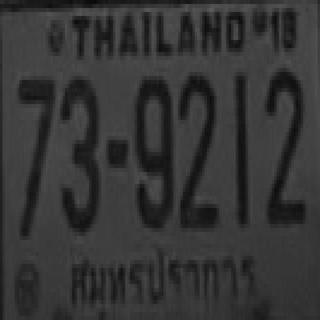N01: (233, 72, 246, 224)
N02: (264, 66, 304, 222), (177, 72, 215, 228)
N03: (59, 74, 100, 230)
N07: (17, 76, 53, 236)
N09: (132, 74, 171, 226)
P57: (64, 242, 263, 313)
